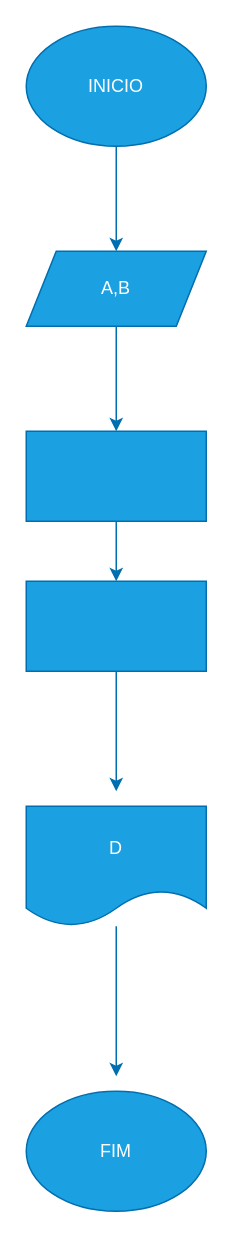
Image size: 233x1238. Some labels were removed from this diagram. Here are the shapes that lost their labels. From the top down, the centre of each, then its label:
point (115, 475): A+B=C
point (115, 625): C*A=D
